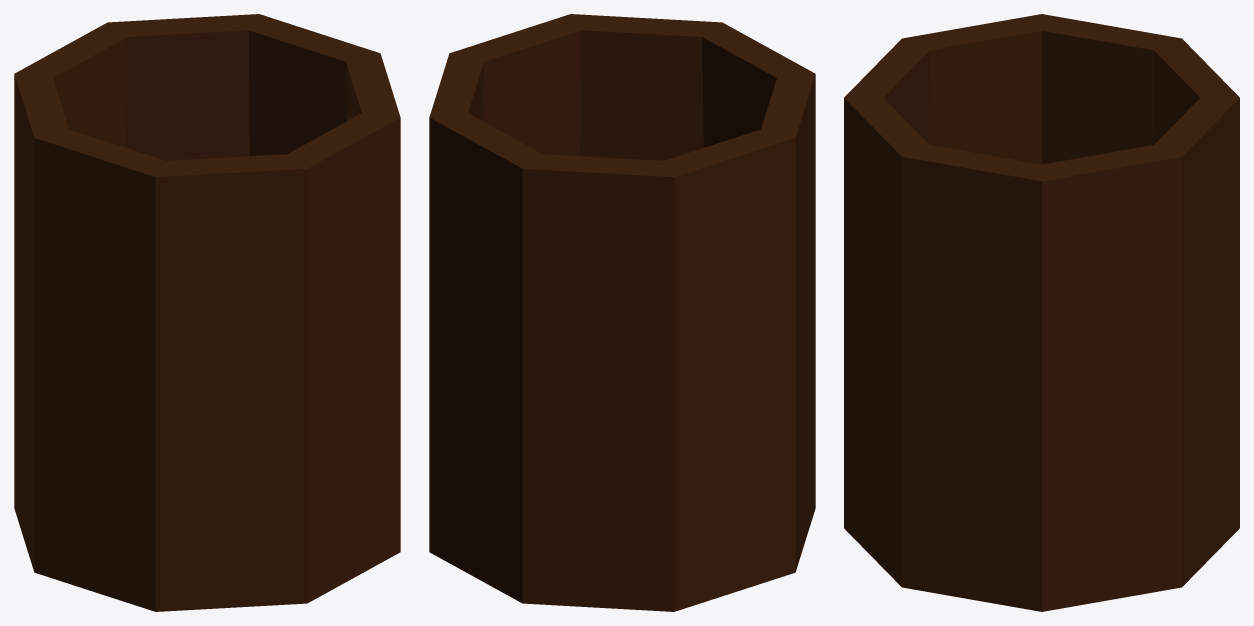
File: pencilHolder.fbx
3 views of the same model, side by side, from view 1: azimuth 30°, elevation 25°; view 2: azimuth 150°, elevation 25°; view 3: azimuth 270°, elevation 25° (orthographic).
Visible parts, largest first — view 1: Cylinder; view 2: Cylinder; view 3: Cylinder.
Part boxes in pixels (bbox=[...]): Cylinder: bbox=[14, 14, 400, 611]; Cylinder: bbox=[429, 14, 815, 611]; Cylinder: bbox=[844, 14, 1239, 611].
Size of the model in its own units: 10 by 12 by 10.
